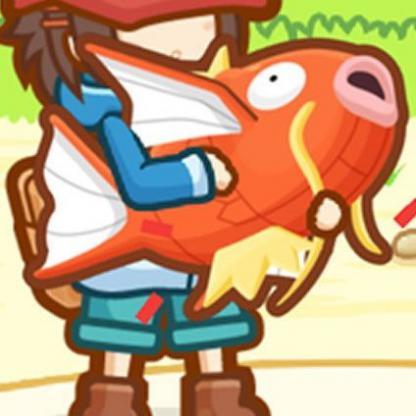Magikarp: (36, 27, 406, 318)
